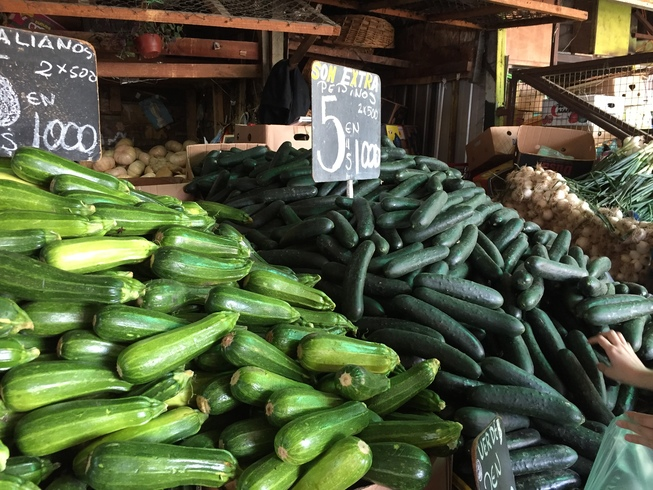precio: (1, 37, 109, 158), (306, 58, 389, 186)
